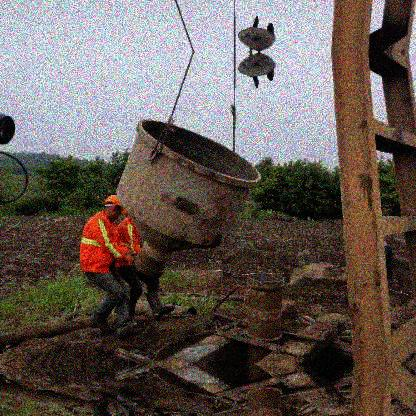helmet: (100, 194, 127, 225)
